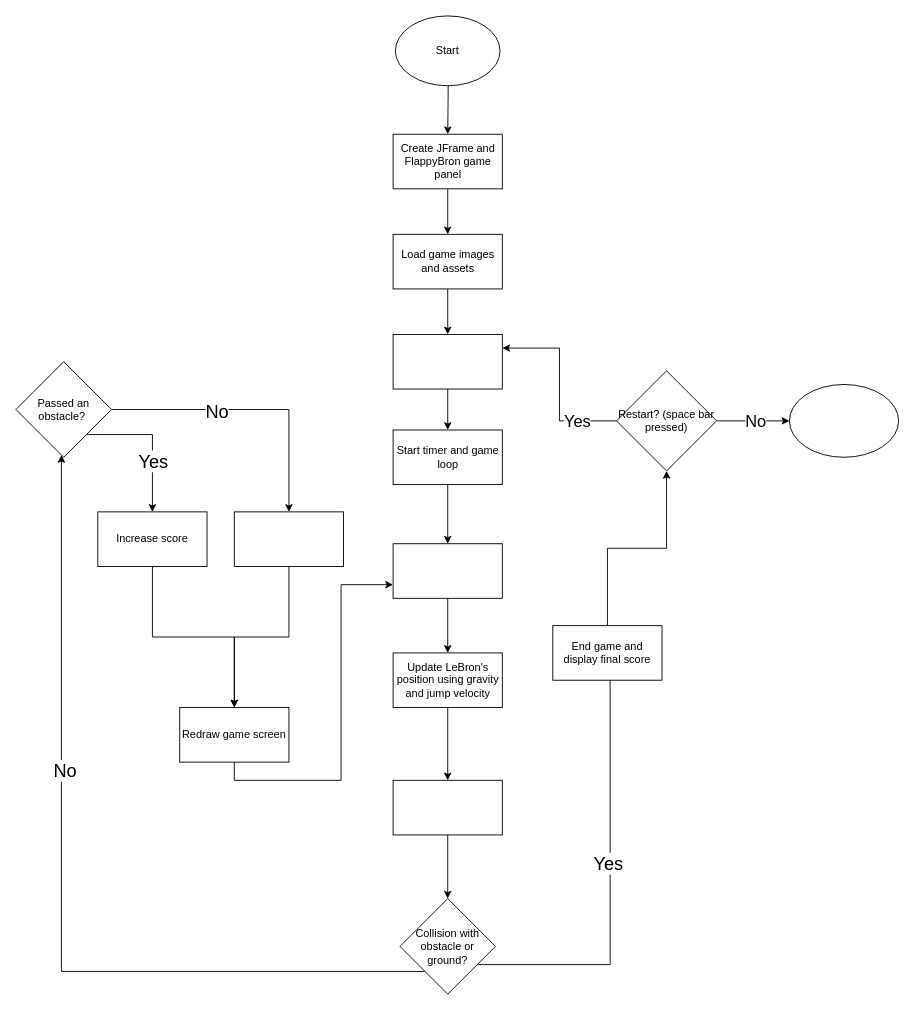
Image size: 915x1010. Some labels were removed from this diagram. The shapes that lost their labels are listed below. From the top down, each one's centre as x and y in pixels, then its label:
At point 447,361: "Initialize player, obstacles, score, and game state".
At point 844,420: "End".
At point 288,538: "Keep current score".
At point 447,570: "Read keyboard input".
At point 447,807: "Move obstacles and generate new ones".
